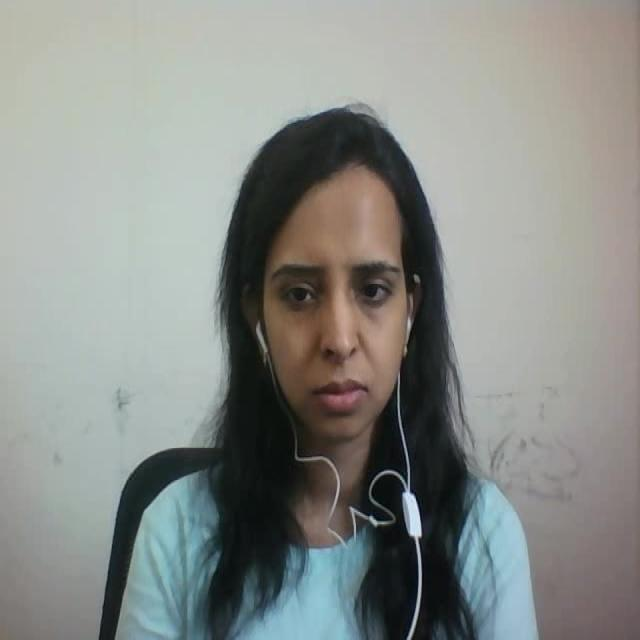Bored: (204, 72, 451, 474)
